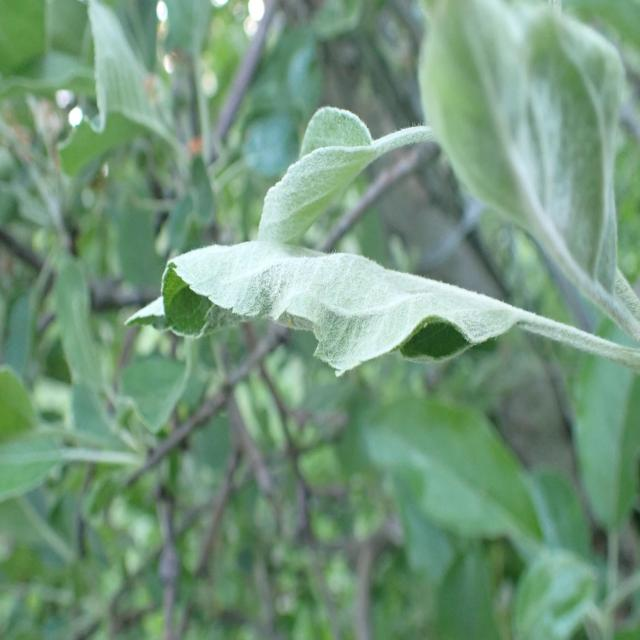Powdery_mildew: (104, 208, 640, 446), (428, 0, 640, 351), (226, 77, 437, 234)
